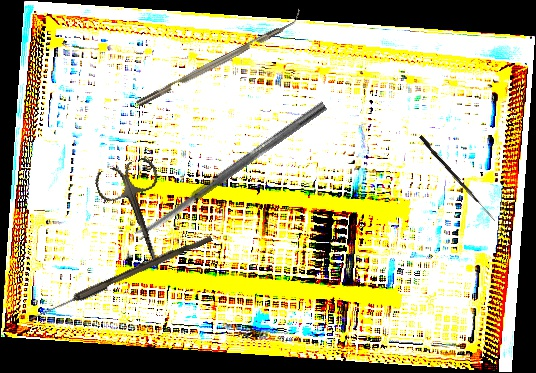Chopper: (132, 7, 306, 108)
Hook Surgical: (417, 134, 499, 222)
Iris Scissors: (92, 155, 186, 280)
Surgical Spoon: (133, 100, 328, 241), (28, 231, 213, 325)
